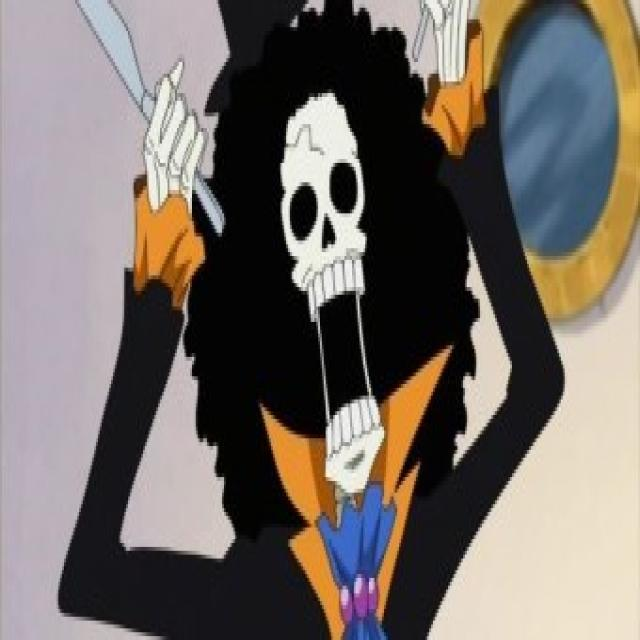Blook: (166, 0, 466, 513)
